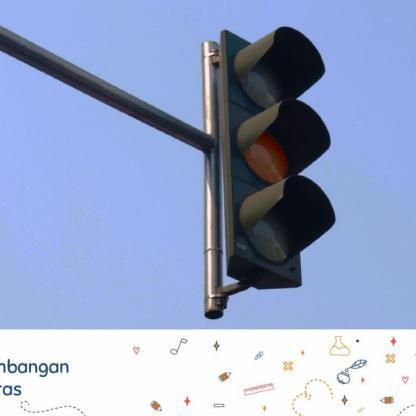yellow: (222, 27, 332, 291)
